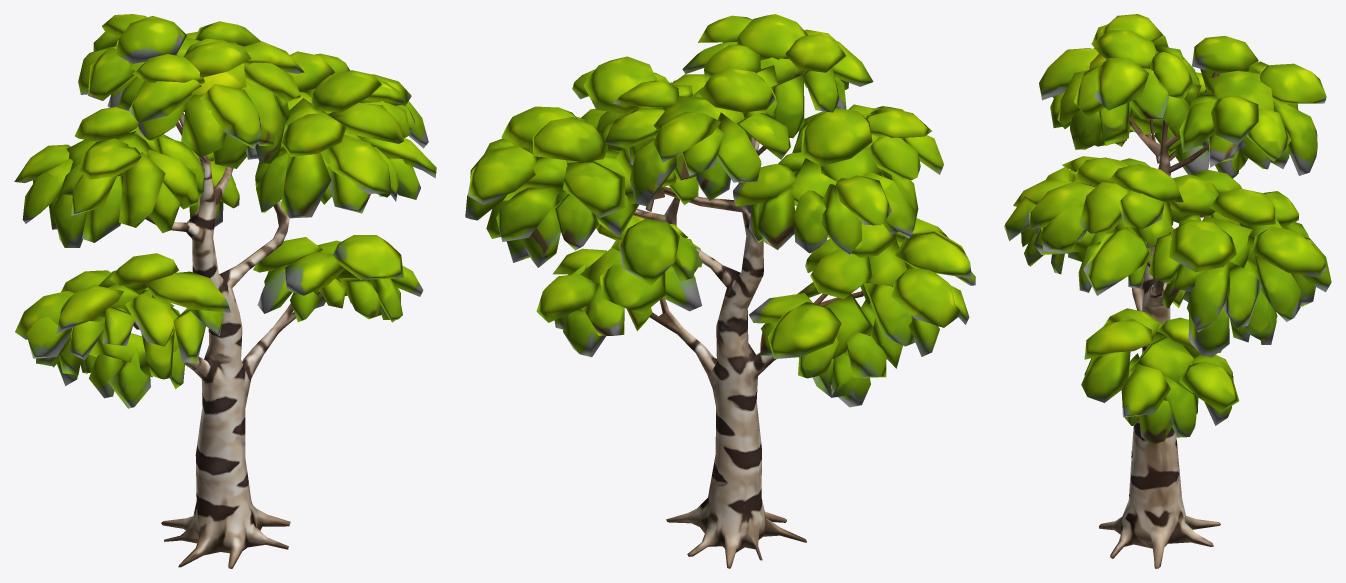
The model's file is tree-birch.glb.
3 renders of one model, left to right at view 1: azimuth 30°, elevation 25°; view 2: azimuth 150°, elevation 25°; view 3: azimuth 270°, elevation 25°, orthographic. The views are drawn at different scales.
Visible parts, largest first — view 1: geometry_0; view 2: geometry_0; view 3: geometry_0.
Part boxes in pixels (x1,y1,x2,y2): geometry_0: (14, 14, 436, 568); geometry_0: (465, 14, 975, 568); geometry_0: (1004, 14, 1331, 568).
Size of the model in its own units: 0.8958 by 0.9995 by 0.6001.
Materials: 1 (1 with a texture image).
